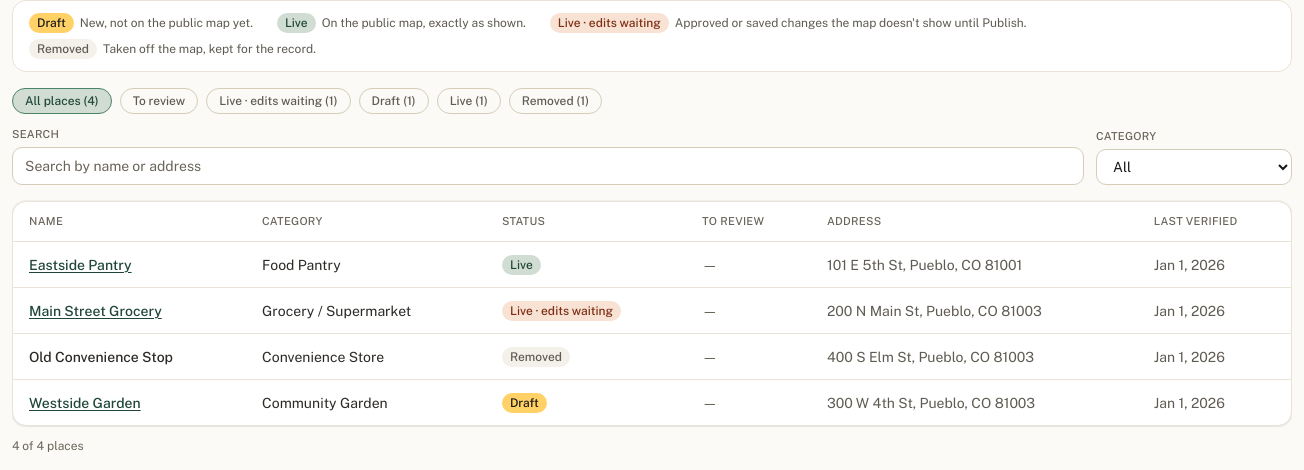
Test case: VenueListView — result count › shows a count of filtered vs total places that updates on filter
The width and height of the screenshot is (1304, 470).
expect the text "4 of 4 places" is shown: met, box [12, 439, 84, 453]
In the search field labelled "Search": (548, 166) [12, 146, 1084, 184], type "garden"
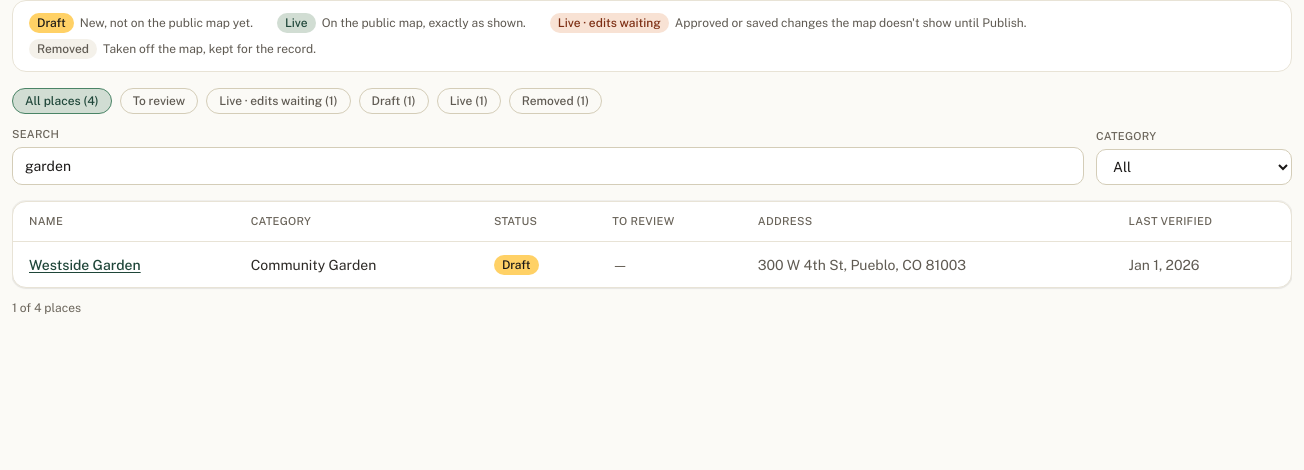
expect the text "1 of 4 places" is shown: met, box [12, 301, 81, 315]
